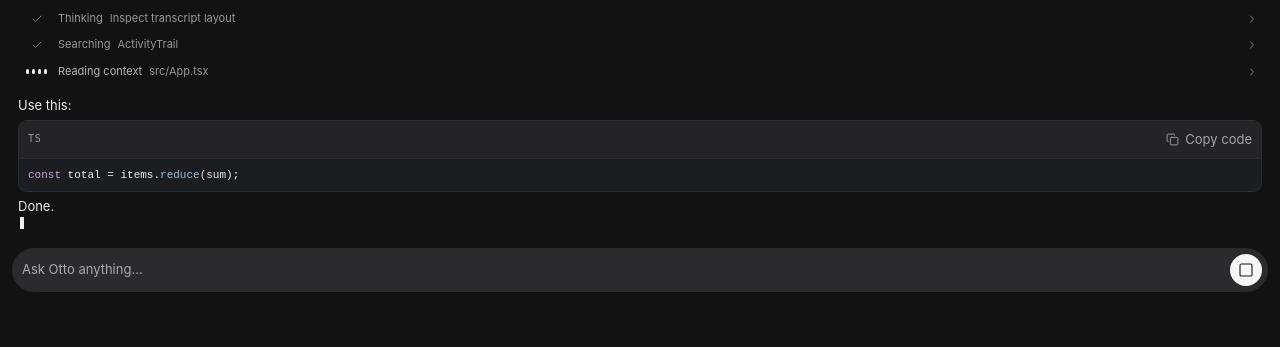
Test case: Agent activity trail › shows inline step summaries and expands detail on click while running
Expected: the text "Thinking" is shown, [58,11,103,27]
Expected: the text "Inspect transcript layout" is shown, [110,11,235,27]
Click the button "Thinking Inspect transcript layout". click: (80, 18)
box: [18,7,1262,31]
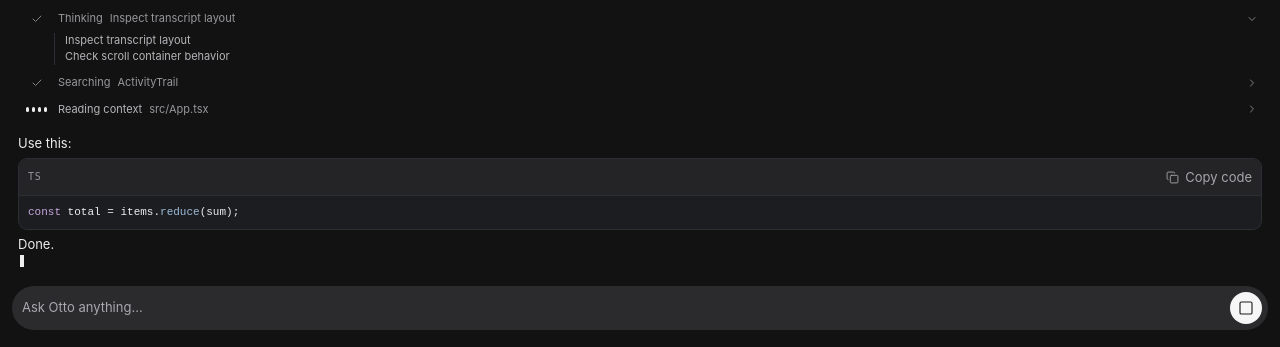
Expected: the button "Thinking Inspect transcript layout" is expanded, [18,7,1262,31]
Expected: the text "Inspect transcript layout Check scroll container behavior" is shown, [54,33,1262,65]
